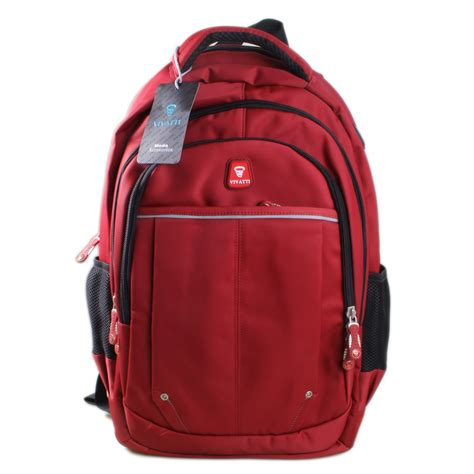nylon: (87, 20, 391, 458)
